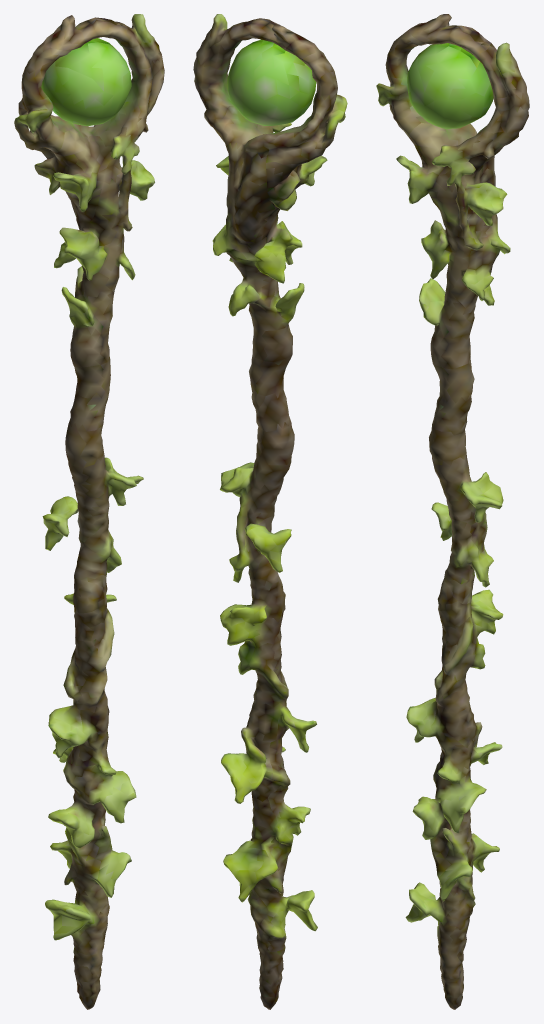
The model's file is zumrut_asa.glb.
3 renders of one model, left to right at view 1: azimuth 30°, elevation 25°; view 2: azimuth 150°, elevation 25°; view 3: azimuth 330°, elevation 25°, orthographic.
Visible parts, largest first — view 1: n3; view 2: n3; view 3: n3.
Part boxes in pixels (x1=…): n3: x1=14, y1=14, x2=164, y2=1009; n3: x1=193, y1=14, x2=347, y2=1009; n3: x1=376, y1=14, x2=529, y2=1009.
Bounding box in the file's own units: 0.2935 × 1.91 × 0.1839.
